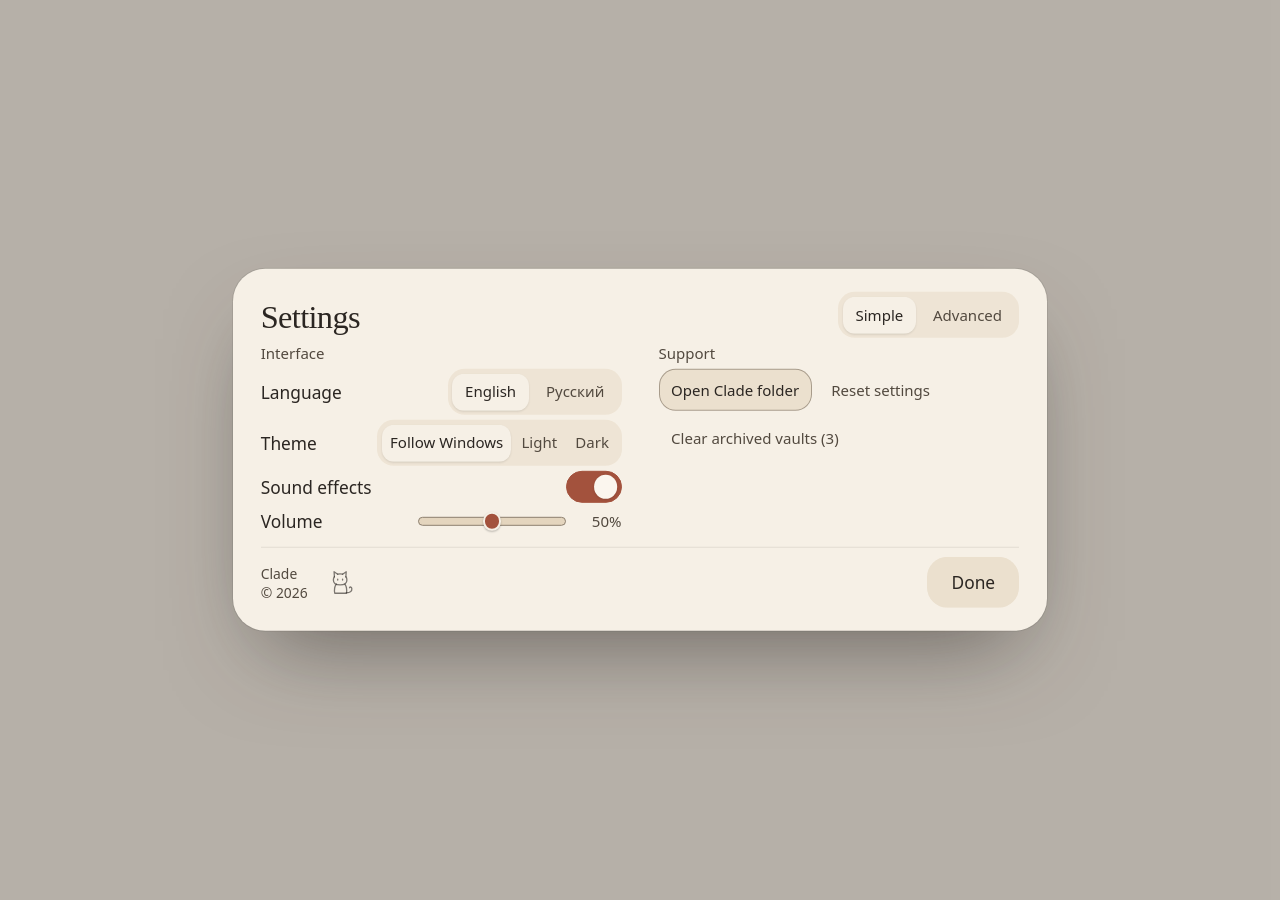
Test: Clearing archived vaults in Settings › falls back to the prior count in the status notice when clearRetiredVaults returns 0
The width and height of the screenshot is (1280, 900).
What coordinates should you click on to do the following:
click the button "Clear archived vaults (3)"
I would click on:
 (755, 438)
Its box is [658,418,851,459].
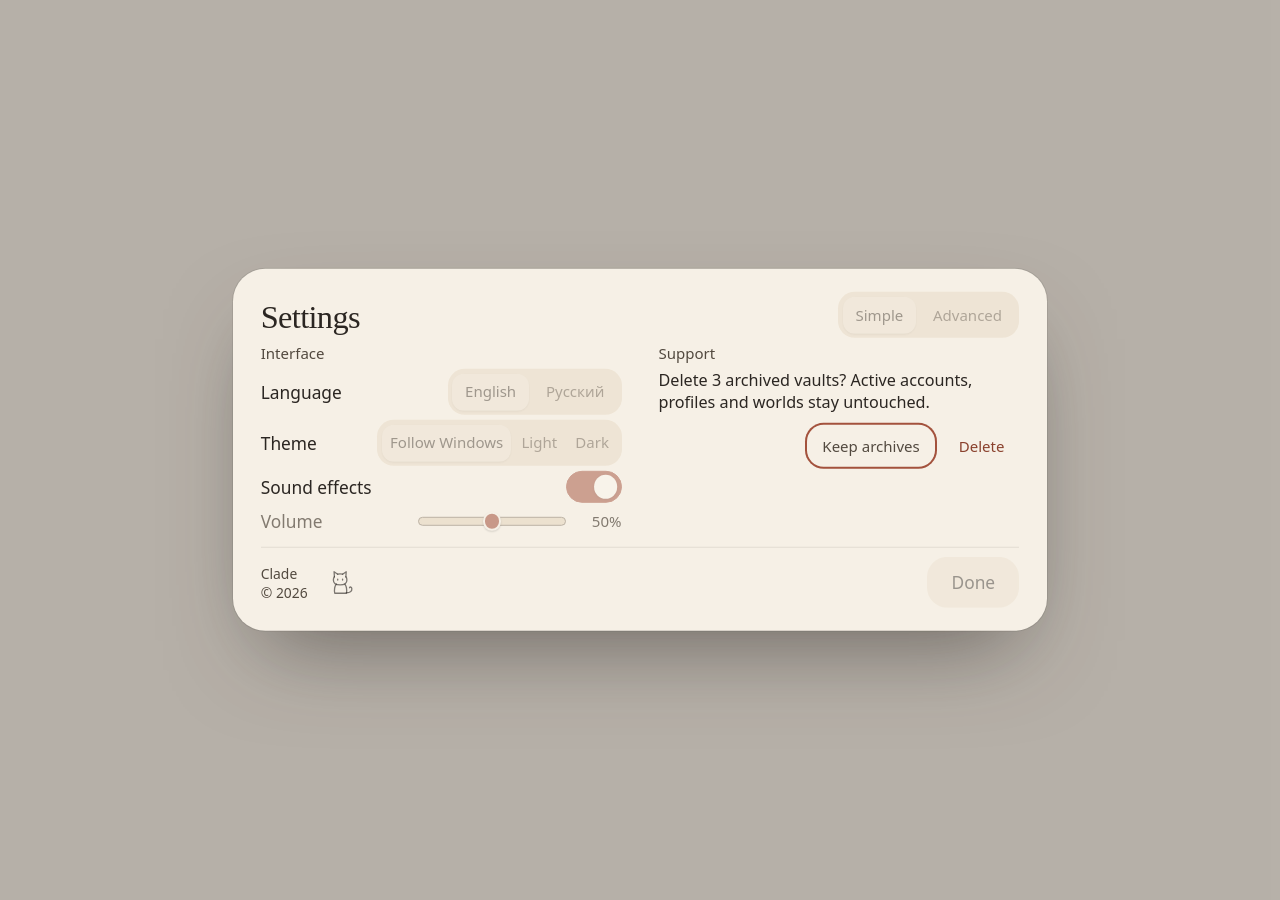
What coordinates should you click on to do the following:
click the button "Delete"
I would click on:
 (982, 446)
Its box is [944,425,1019,467].
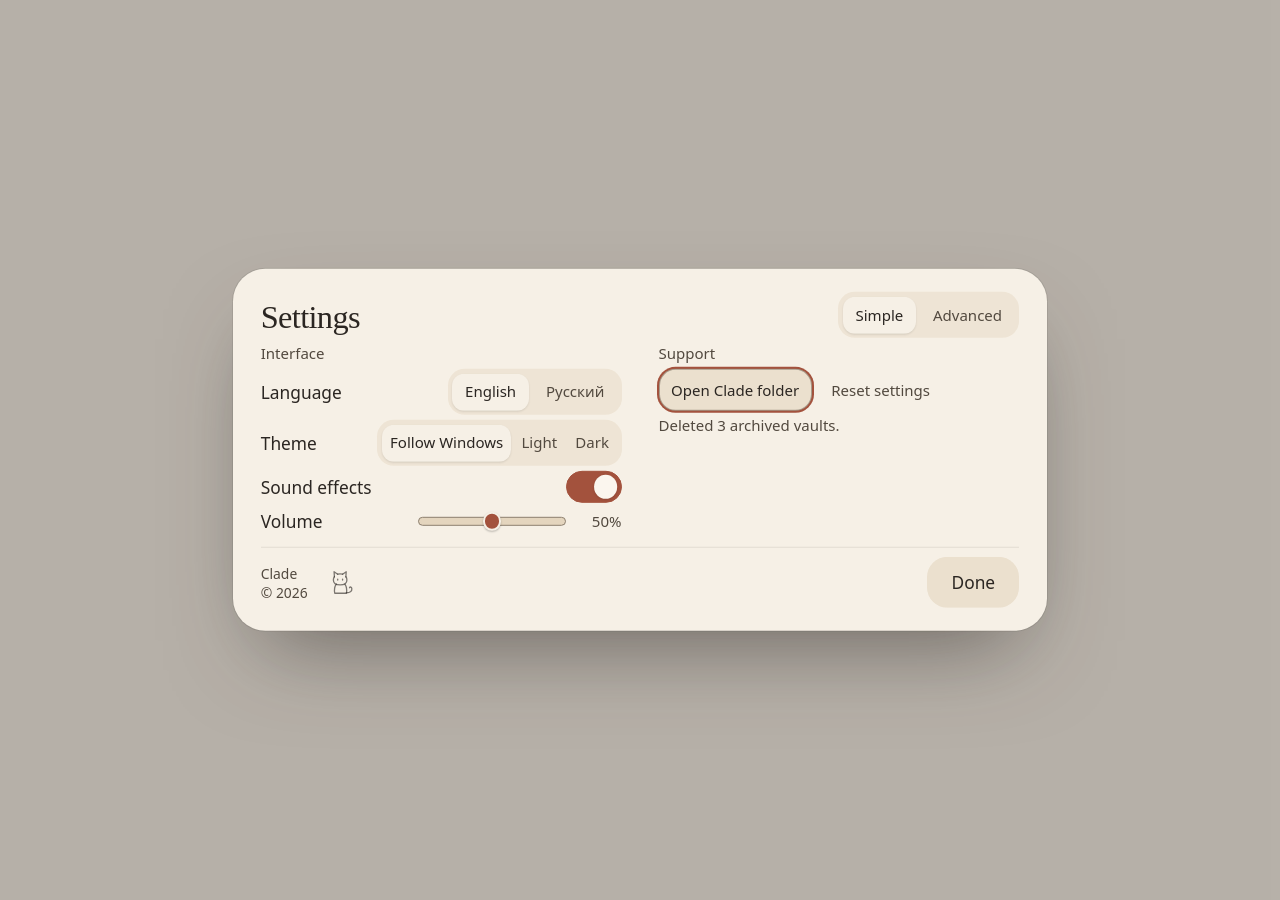
Check: the button "Clear archived vaults" is not shown
Check: the message reads "Deleted 3 archived vaults.", box [658,415,840,435]
